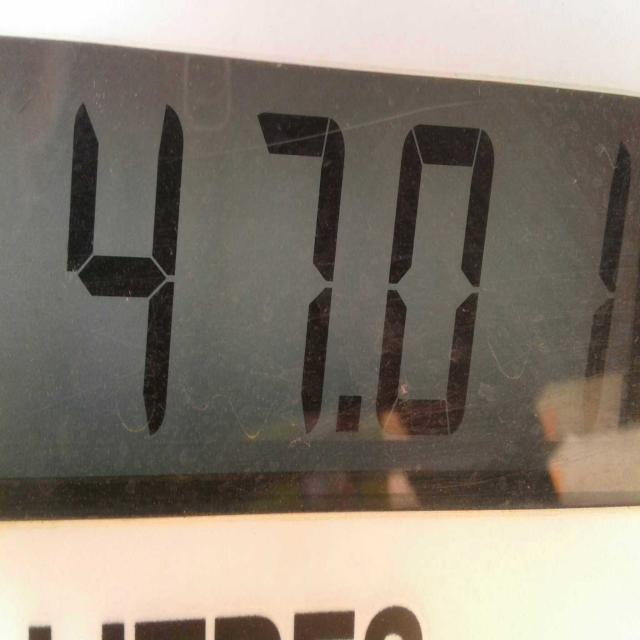.: (324, 366, 367, 478)
0: (374, 104, 494, 454)
4: (60, 90, 208, 447)
7: (247, 76, 342, 468)
